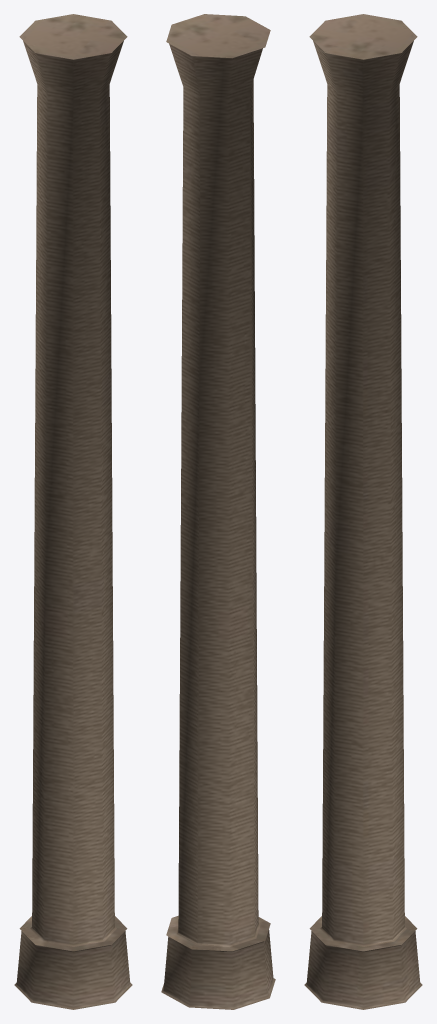
Rendered from ironwood-column.glb.
3 renders of one model, left to right at view 1: azimuth 90°, elevation 25°; view 2: azimuth 150°, elevation 25°; view 3: azimuth 270°, elevation 25°, orthographic.
Visible parts, largest first — view 1: ironwood_column; view 2: ironwood_column; view 3: ironwood_column.
Boxes of the visible parts, x1,y1,x2,y2 form: ironwood_column: [14, 14, 132, 1009]; ironwood_column: [161, 14, 275, 1009]; ironwood_column: [304, 14, 422, 1009].
Bounding box in the file's own units: 1.14 × 10.1 × 1.14.
1 material, 1 textured.
